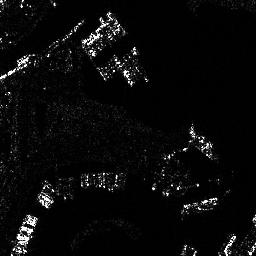ship: (15, 51, 34, 65)
